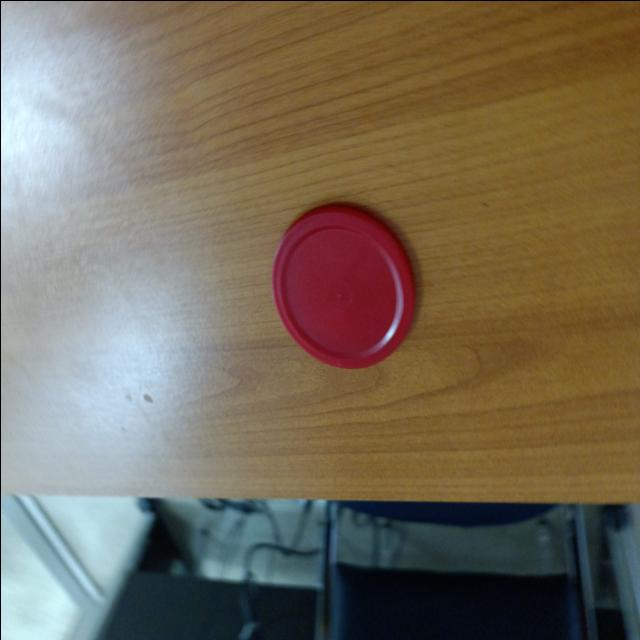chip: (269, 203, 417, 373)
